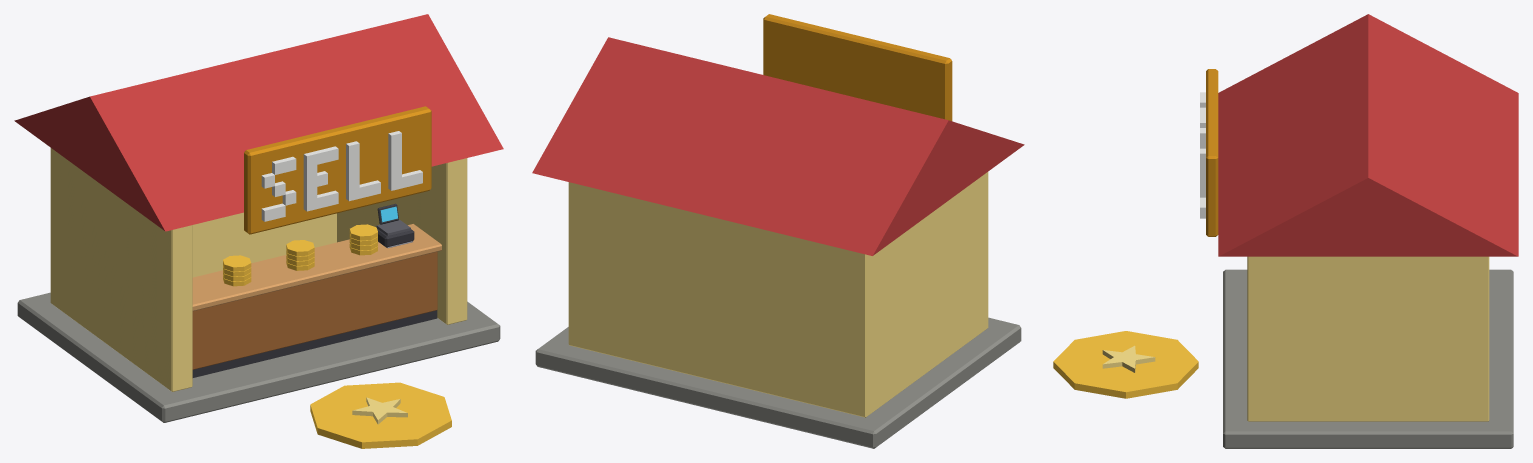
File: SellShop.fbx
The picture shows the model from 3 angles, left to right: view 1: azimuth 30°, elevation 25°; view 2: azimuth 150°, elevation 25°; view 3: azimuth 270°, elevation 25°; orthographic projection.
Visible parts, largest first — view 1: SellShop, SellShop_SellPad; view 2: SellShop; view 3: SellShop, SellShop_SellPad.
Part boxes in pixels (x1,y1,x2,y2): SellShop: [14, 14, 503, 422]; SellShop_SellPad: [310, 382, 451, 448]; SellShop: [532, 14, 1024, 448]; SellShop: [1200, 14, 1518, 448]; SellShop_SellPad: [1053, 331, 1198, 398].
Size of the model in its own units: 16 by 12.4 by 19.2.
Materials: 1 (1 with a texture image).
